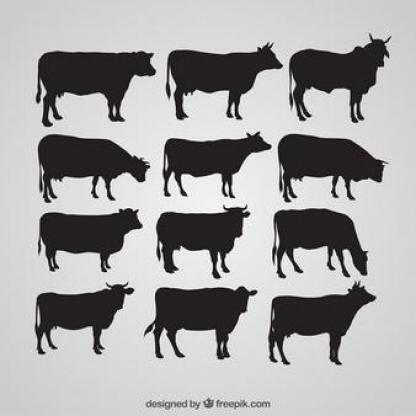cow: (266, 277, 378, 367), (289, 32, 393, 122), (166, 41, 282, 121), (36, 49, 156, 123), (143, 286, 259, 360), (277, 132, 391, 204), (36, 133, 152, 202), (34, 278, 136, 356), (156, 201, 253, 279), (162, 131, 274, 198), (270, 207, 369, 279), (37, 206, 144, 272)
